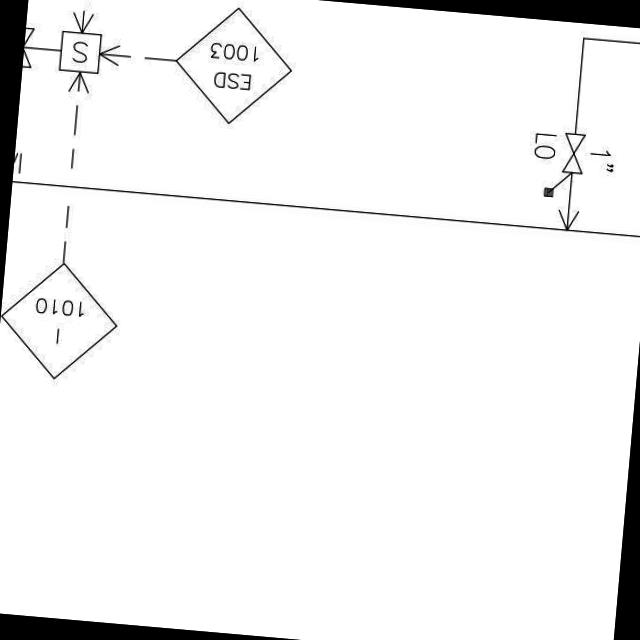GV: (556, 125, 589, 181)
